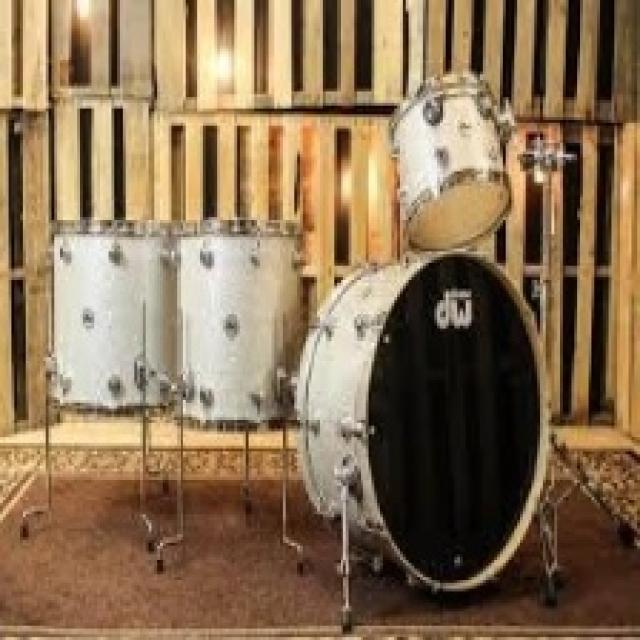drums: (42, 67, 594, 588)
